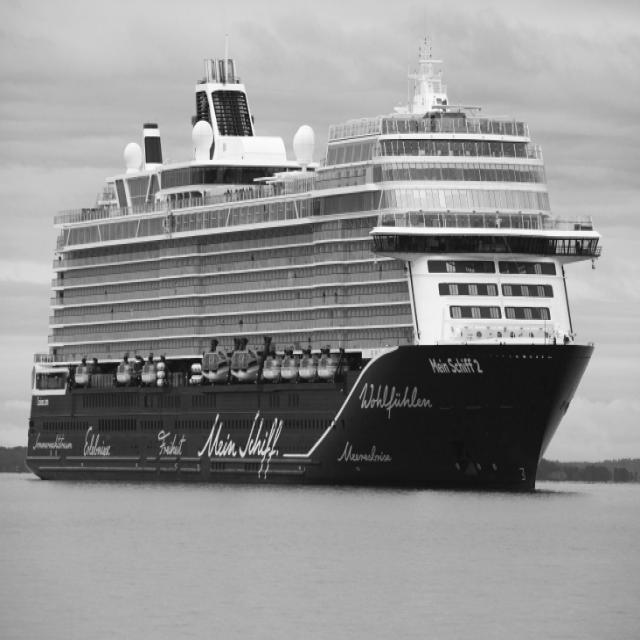cruises: (23, 50, 603, 498)
